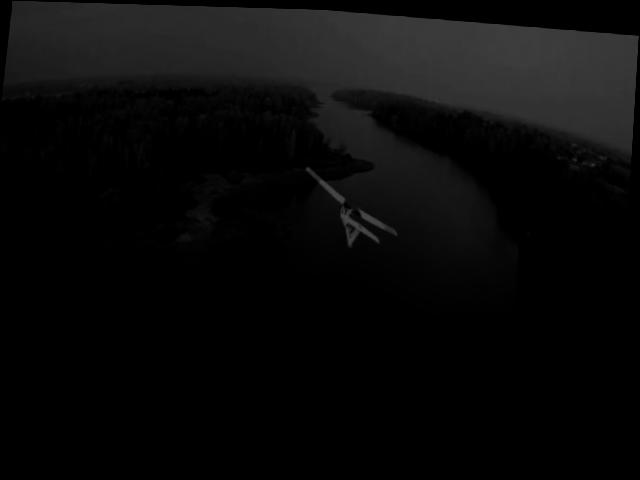hedef: (296, 162, 411, 264)
